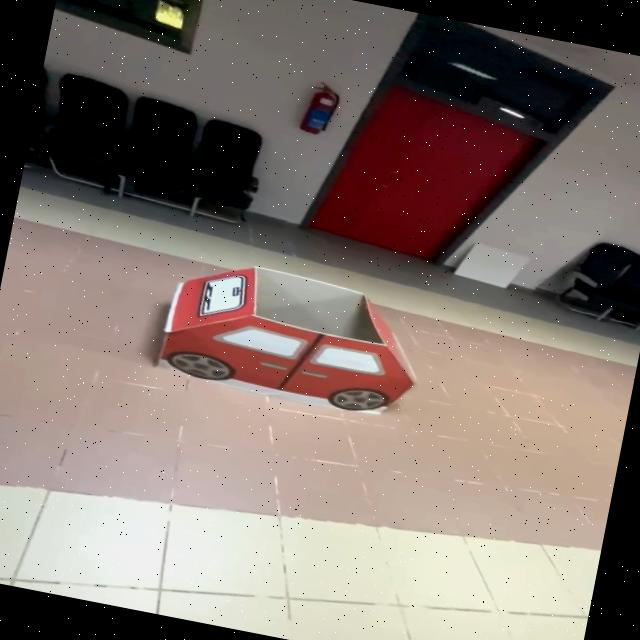red_car: (121, 237, 471, 451)
